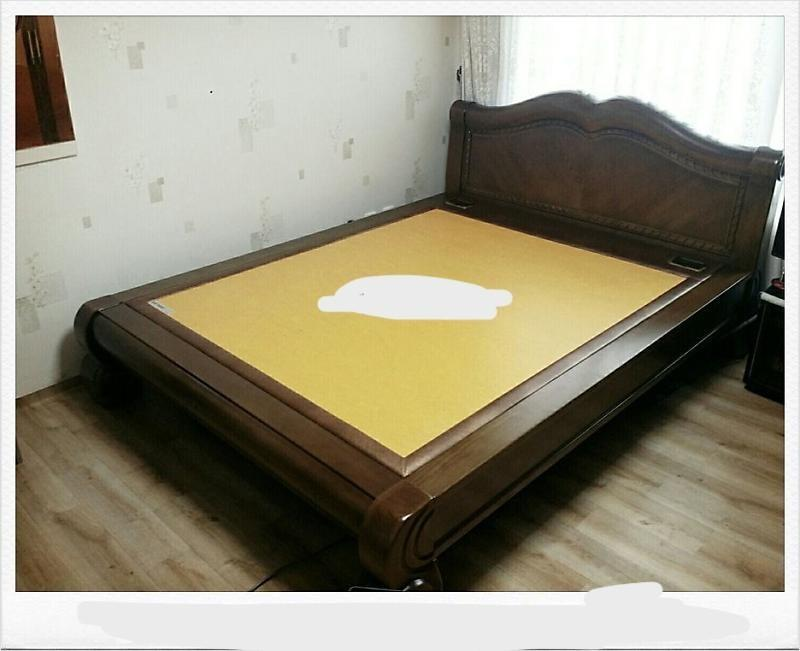Bed-Mattress: (81, 85, 775, 567)
